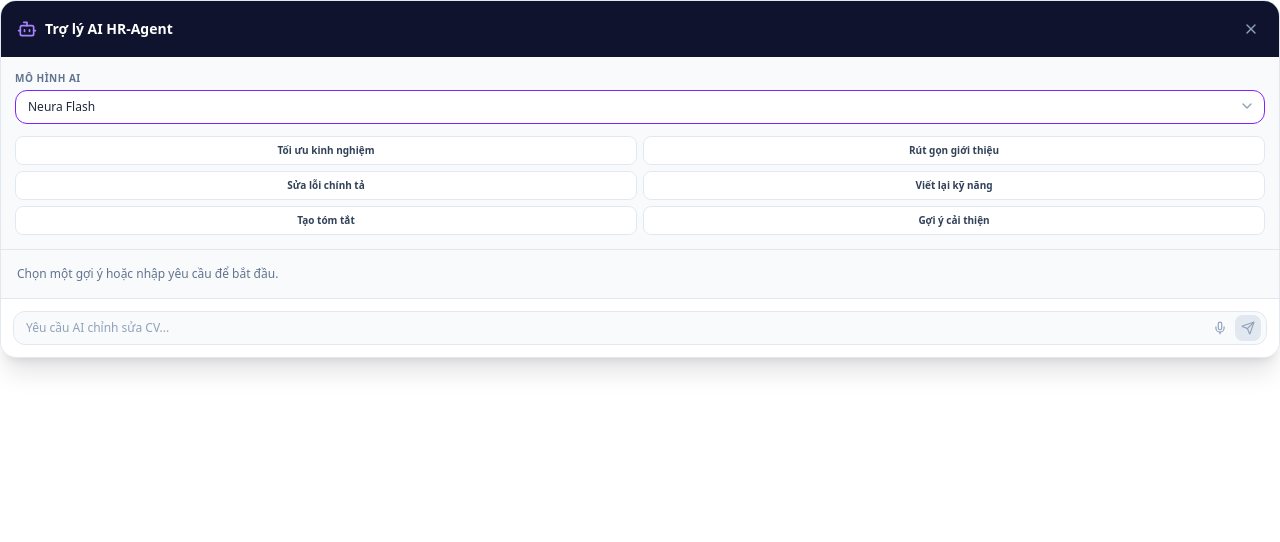
Test: ChatPanel — giao diện trợ lý AI › gửi quick action bằng model đang chọn và hiển thị phản hồi AI
Select "Neura Pro" in the dropdown labelled "MÔ HÌNH AI" at (640, 107), box [15,90,1265,124]
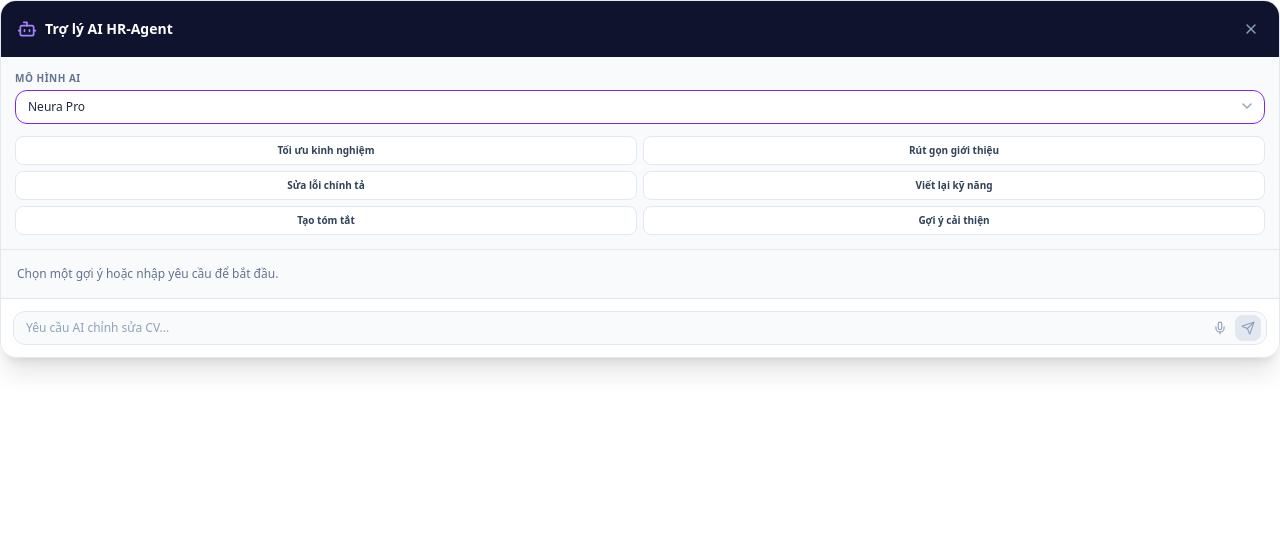
Click the button "Tạo tóm tắt".
click(326, 220)  # box [15,206,637,235]
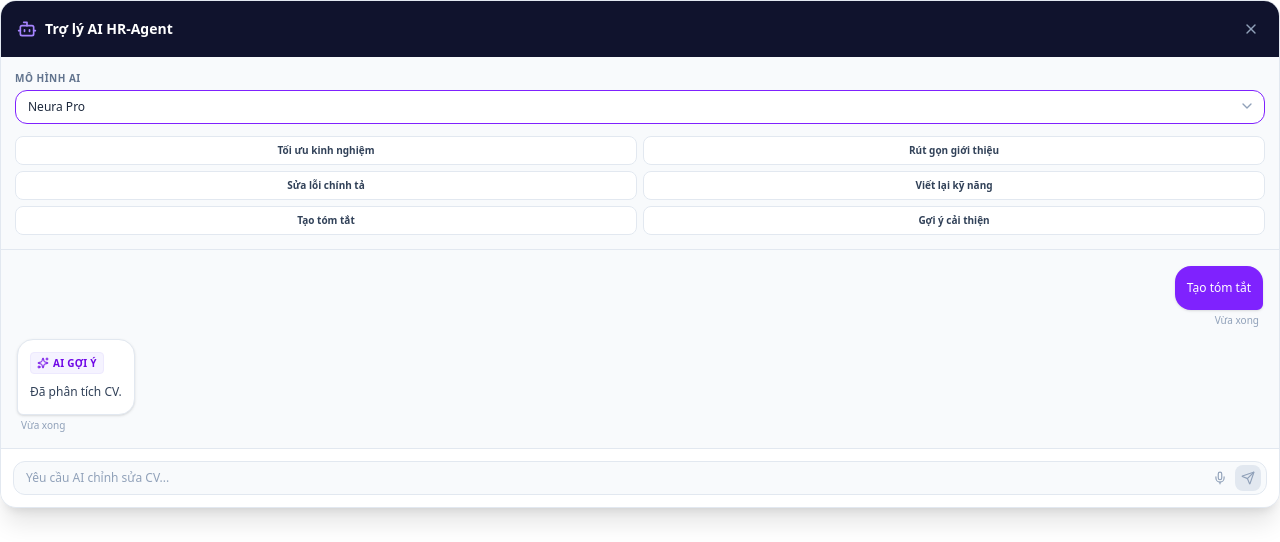
Check: the text "AI GỢI Ý" is shown, box [30,352,104,374]
Check: the text "Đã phân tích CV." is shown, box [30,383,122,400]
